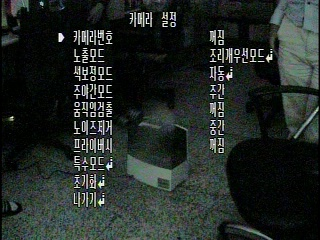smoke: (140, 102, 178, 133)
